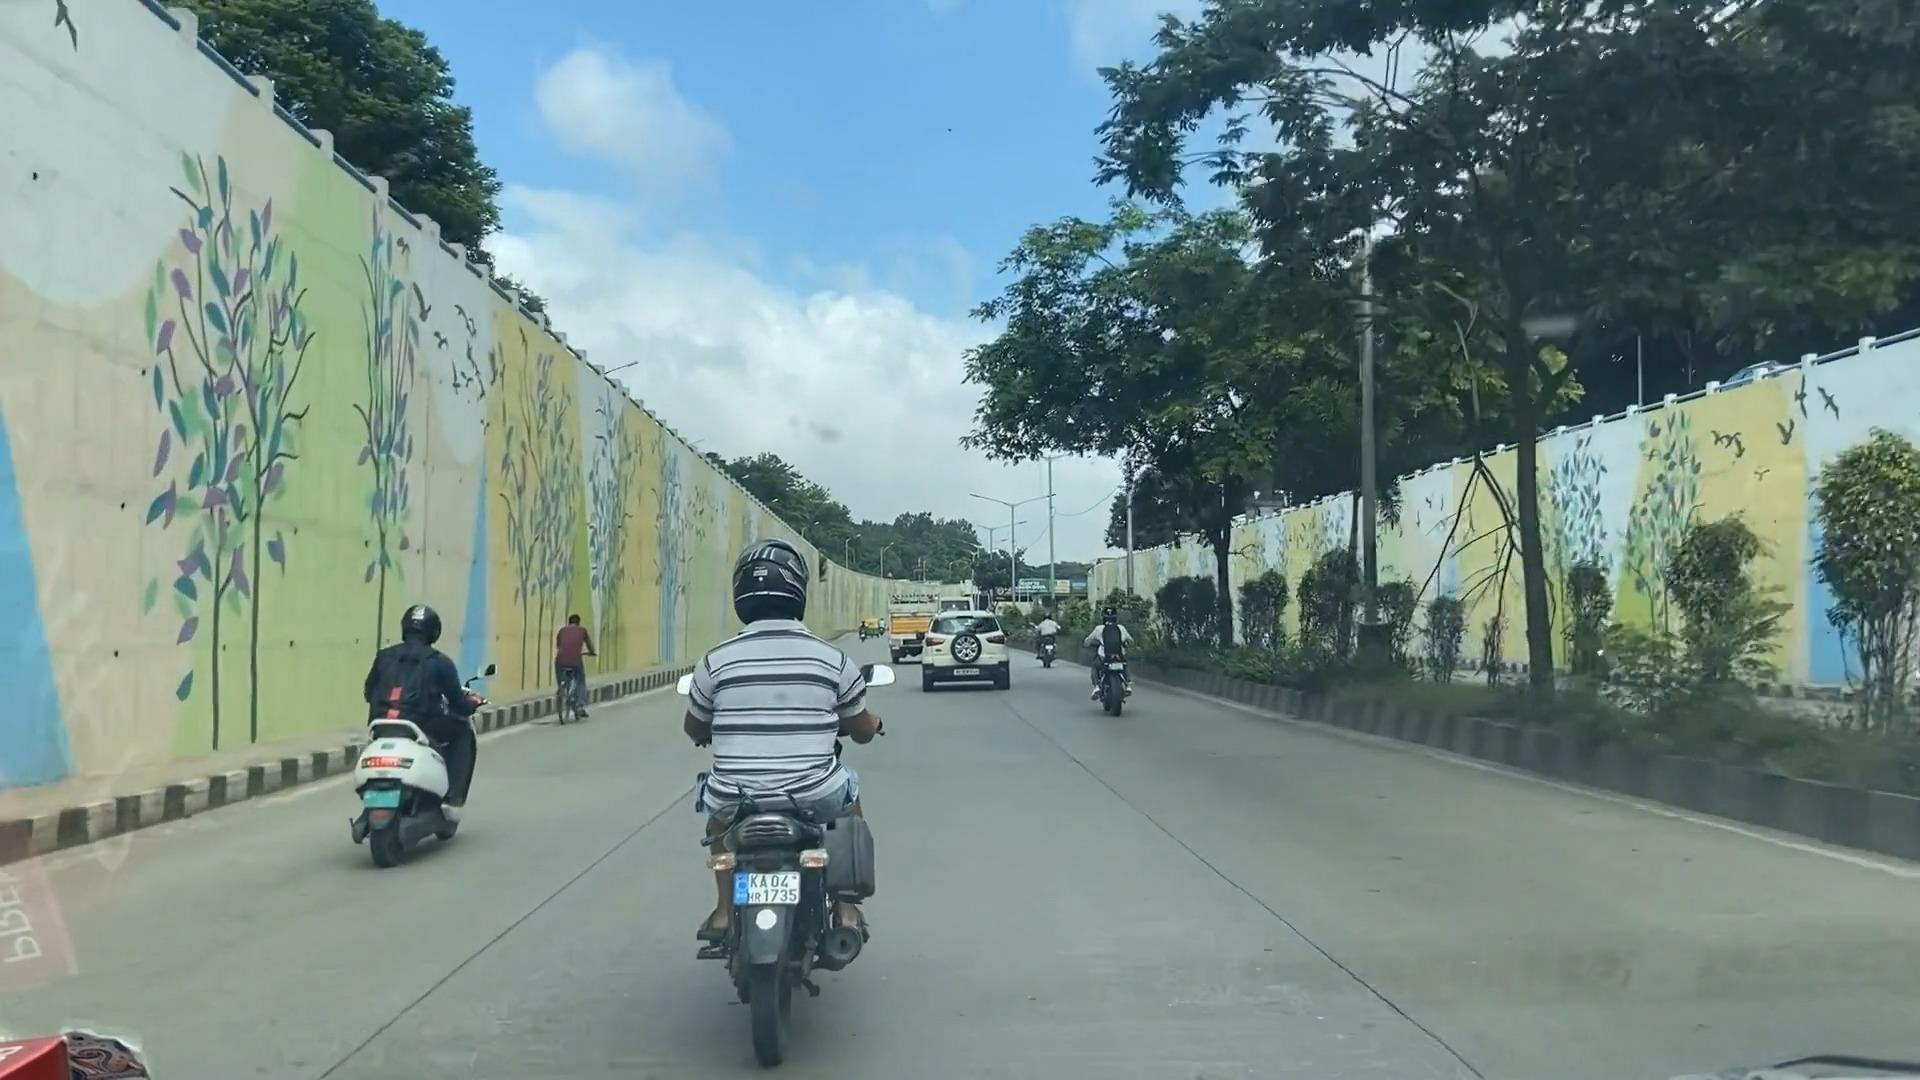LMV: (690, 549, 853, 1019), (355, 599, 476, 845), (914, 612, 1014, 686), (1084, 600, 1135, 721)
